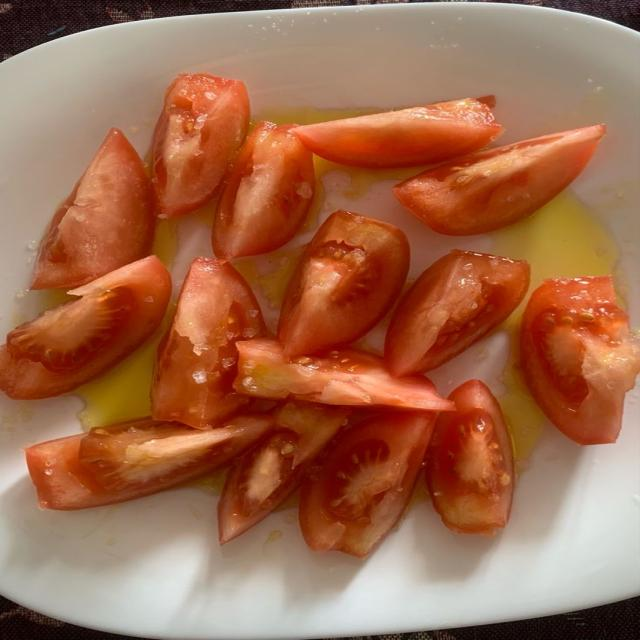sliced_tomato: (0, 256, 171, 398), (26, 414, 273, 510), (394, 125, 605, 235), (520, 276, 639, 445), (31, 128, 154, 289), (300, 413, 434, 557), (278, 210, 409, 357), (152, 258, 265, 428), (218, 402, 349, 544), (385, 250, 530, 376), (234, 339, 453, 411), (294, 99, 503, 168), (152, 73, 249, 217), (213, 122, 314, 258), (427, 380, 514, 535)
